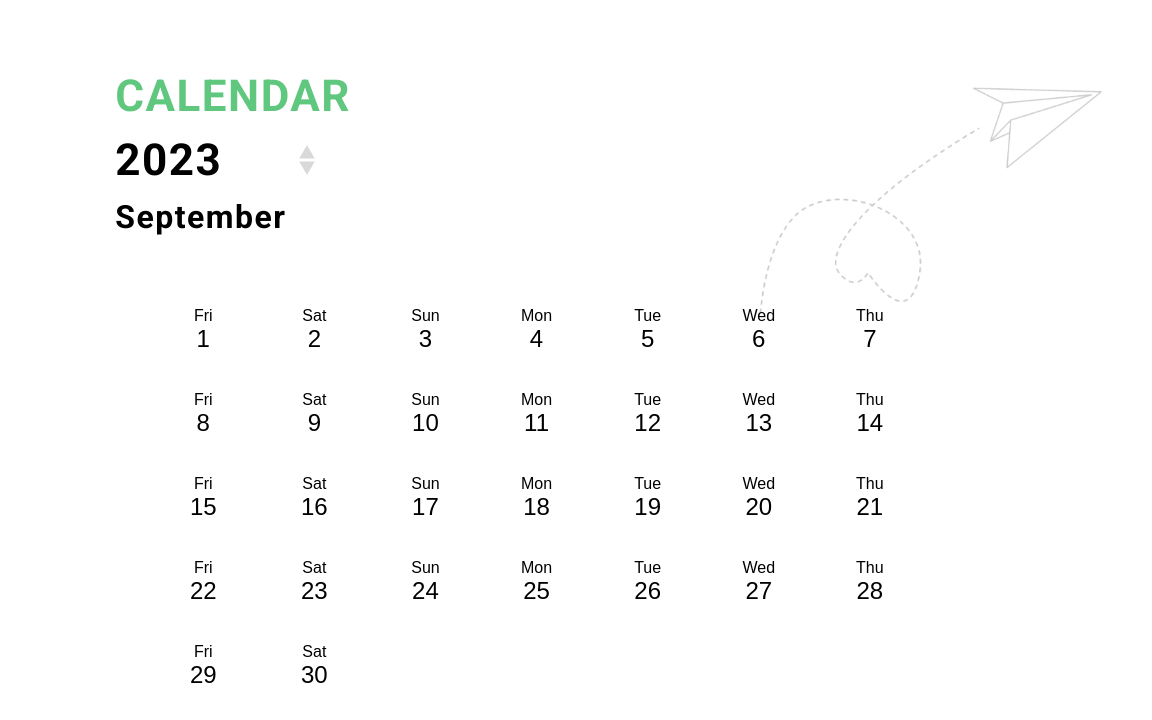
Test case: Calendar Page › Show Calendar Overlay when pressing the month title
Click the heading with id "calendar-month-main".
click(195, 217)  # box [115,198,275,236]
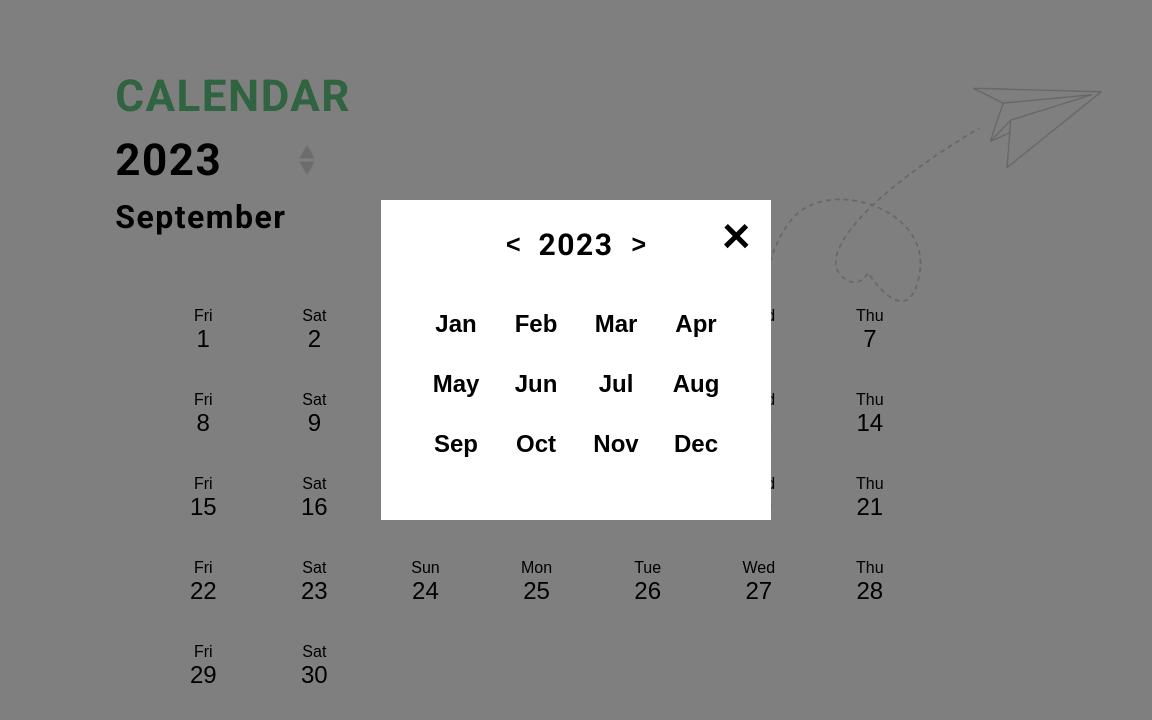
expect the element with id "calendar-overlay" is shown: met
